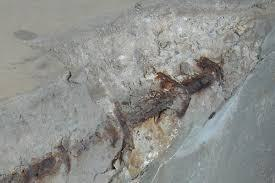Exposed reinforcement: (1, 56, 225, 183), (156, 71, 191, 119), (112, 100, 138, 157), (193, 55, 225, 83), (56, 144, 71, 176)
Spalling: (47, 1, 275, 183)
